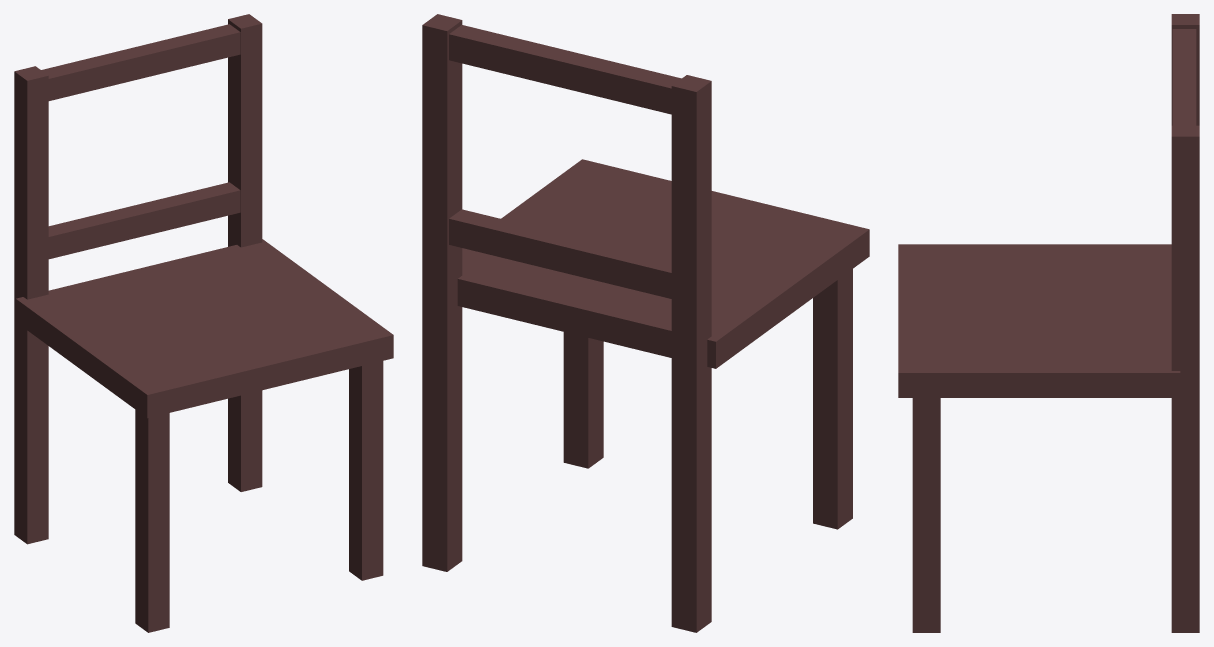
The model's file is chair5.obj.
The picture shows the model from 3 angles, left to right: view 1: azimuth 30°, elevation 25°; view 2: azimuth 150°, elevation 25°; view 3: azimuth 270°, elevation 25°; orthographic projection. The views are drawn at different scales.
Parts seen in each view (by area): view 1: chair5; view 2: chair5; view 3: chair5.
Boxes of the visible parts, x1,y1,x2,y2 form: chair5: [14, 14, 393, 632]; chair5: [422, 14, 869, 632]; chair5: [898, 14, 1199, 632].
Size of the model in its own units: 0.5412 by 0.9733 by 0.536.
